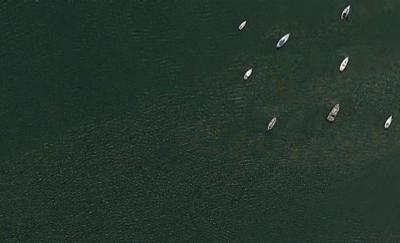Ships: (324, 97, 344, 131), (262, 110, 280, 138), (241, 59, 258, 87), (236, 18, 255, 41)
